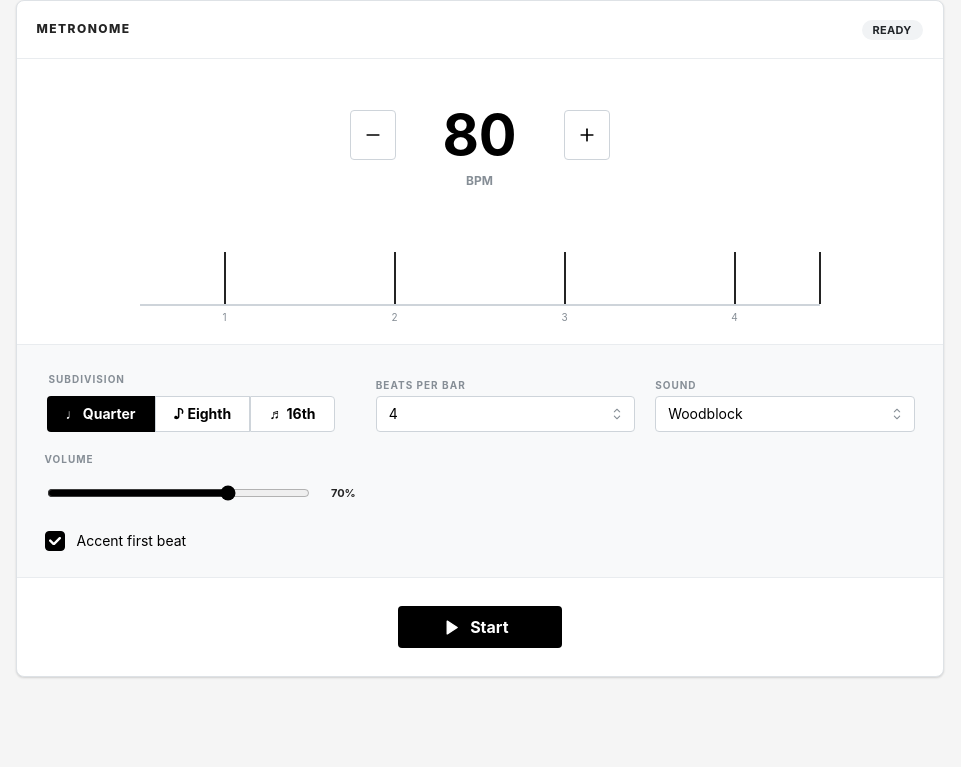
it: Metronome UI › shows a recoverable error when the audio engine cannot start
Click the button "Start".
click(480, 627)  # box [398,606,562,648]
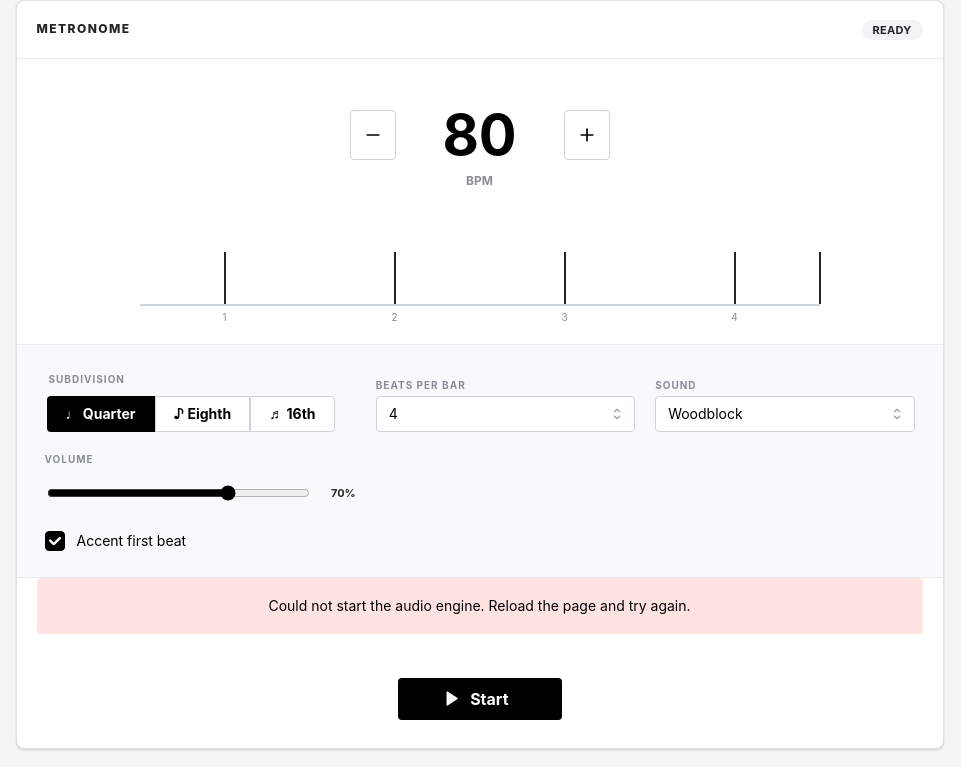
Expected: the button "Start" is shown, [398,678,562,720]
Expected: the message shows "Could not start the audio engine", [268,597,691,614]
